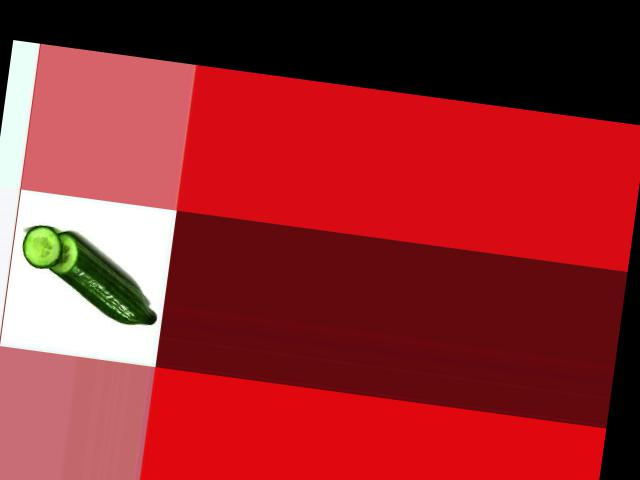cucumber: (40, 229, 166, 327)
